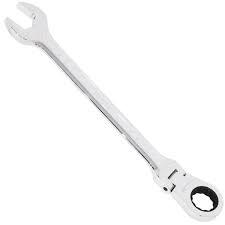wrench: (1, 0, 224, 224)
